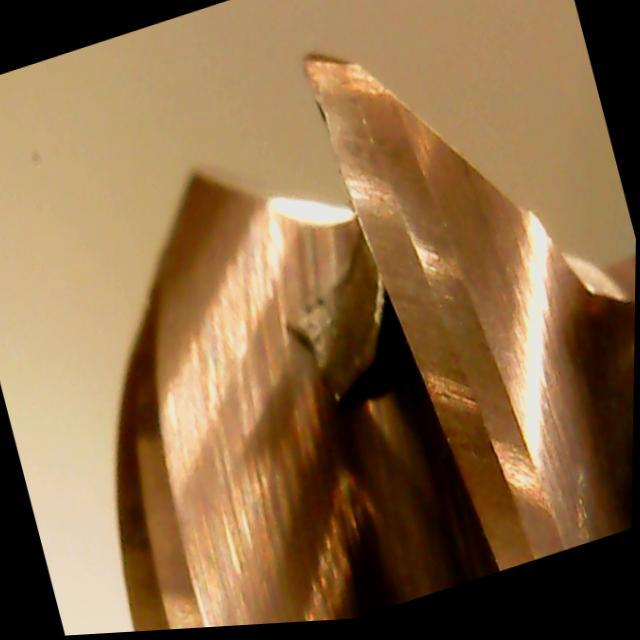Tool-wear-class-1: (278, 19, 426, 245)
